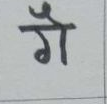au_matra: (38, 3, 75, 62)
